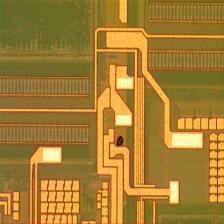PARTICLE: (113, 134, 129, 150)
